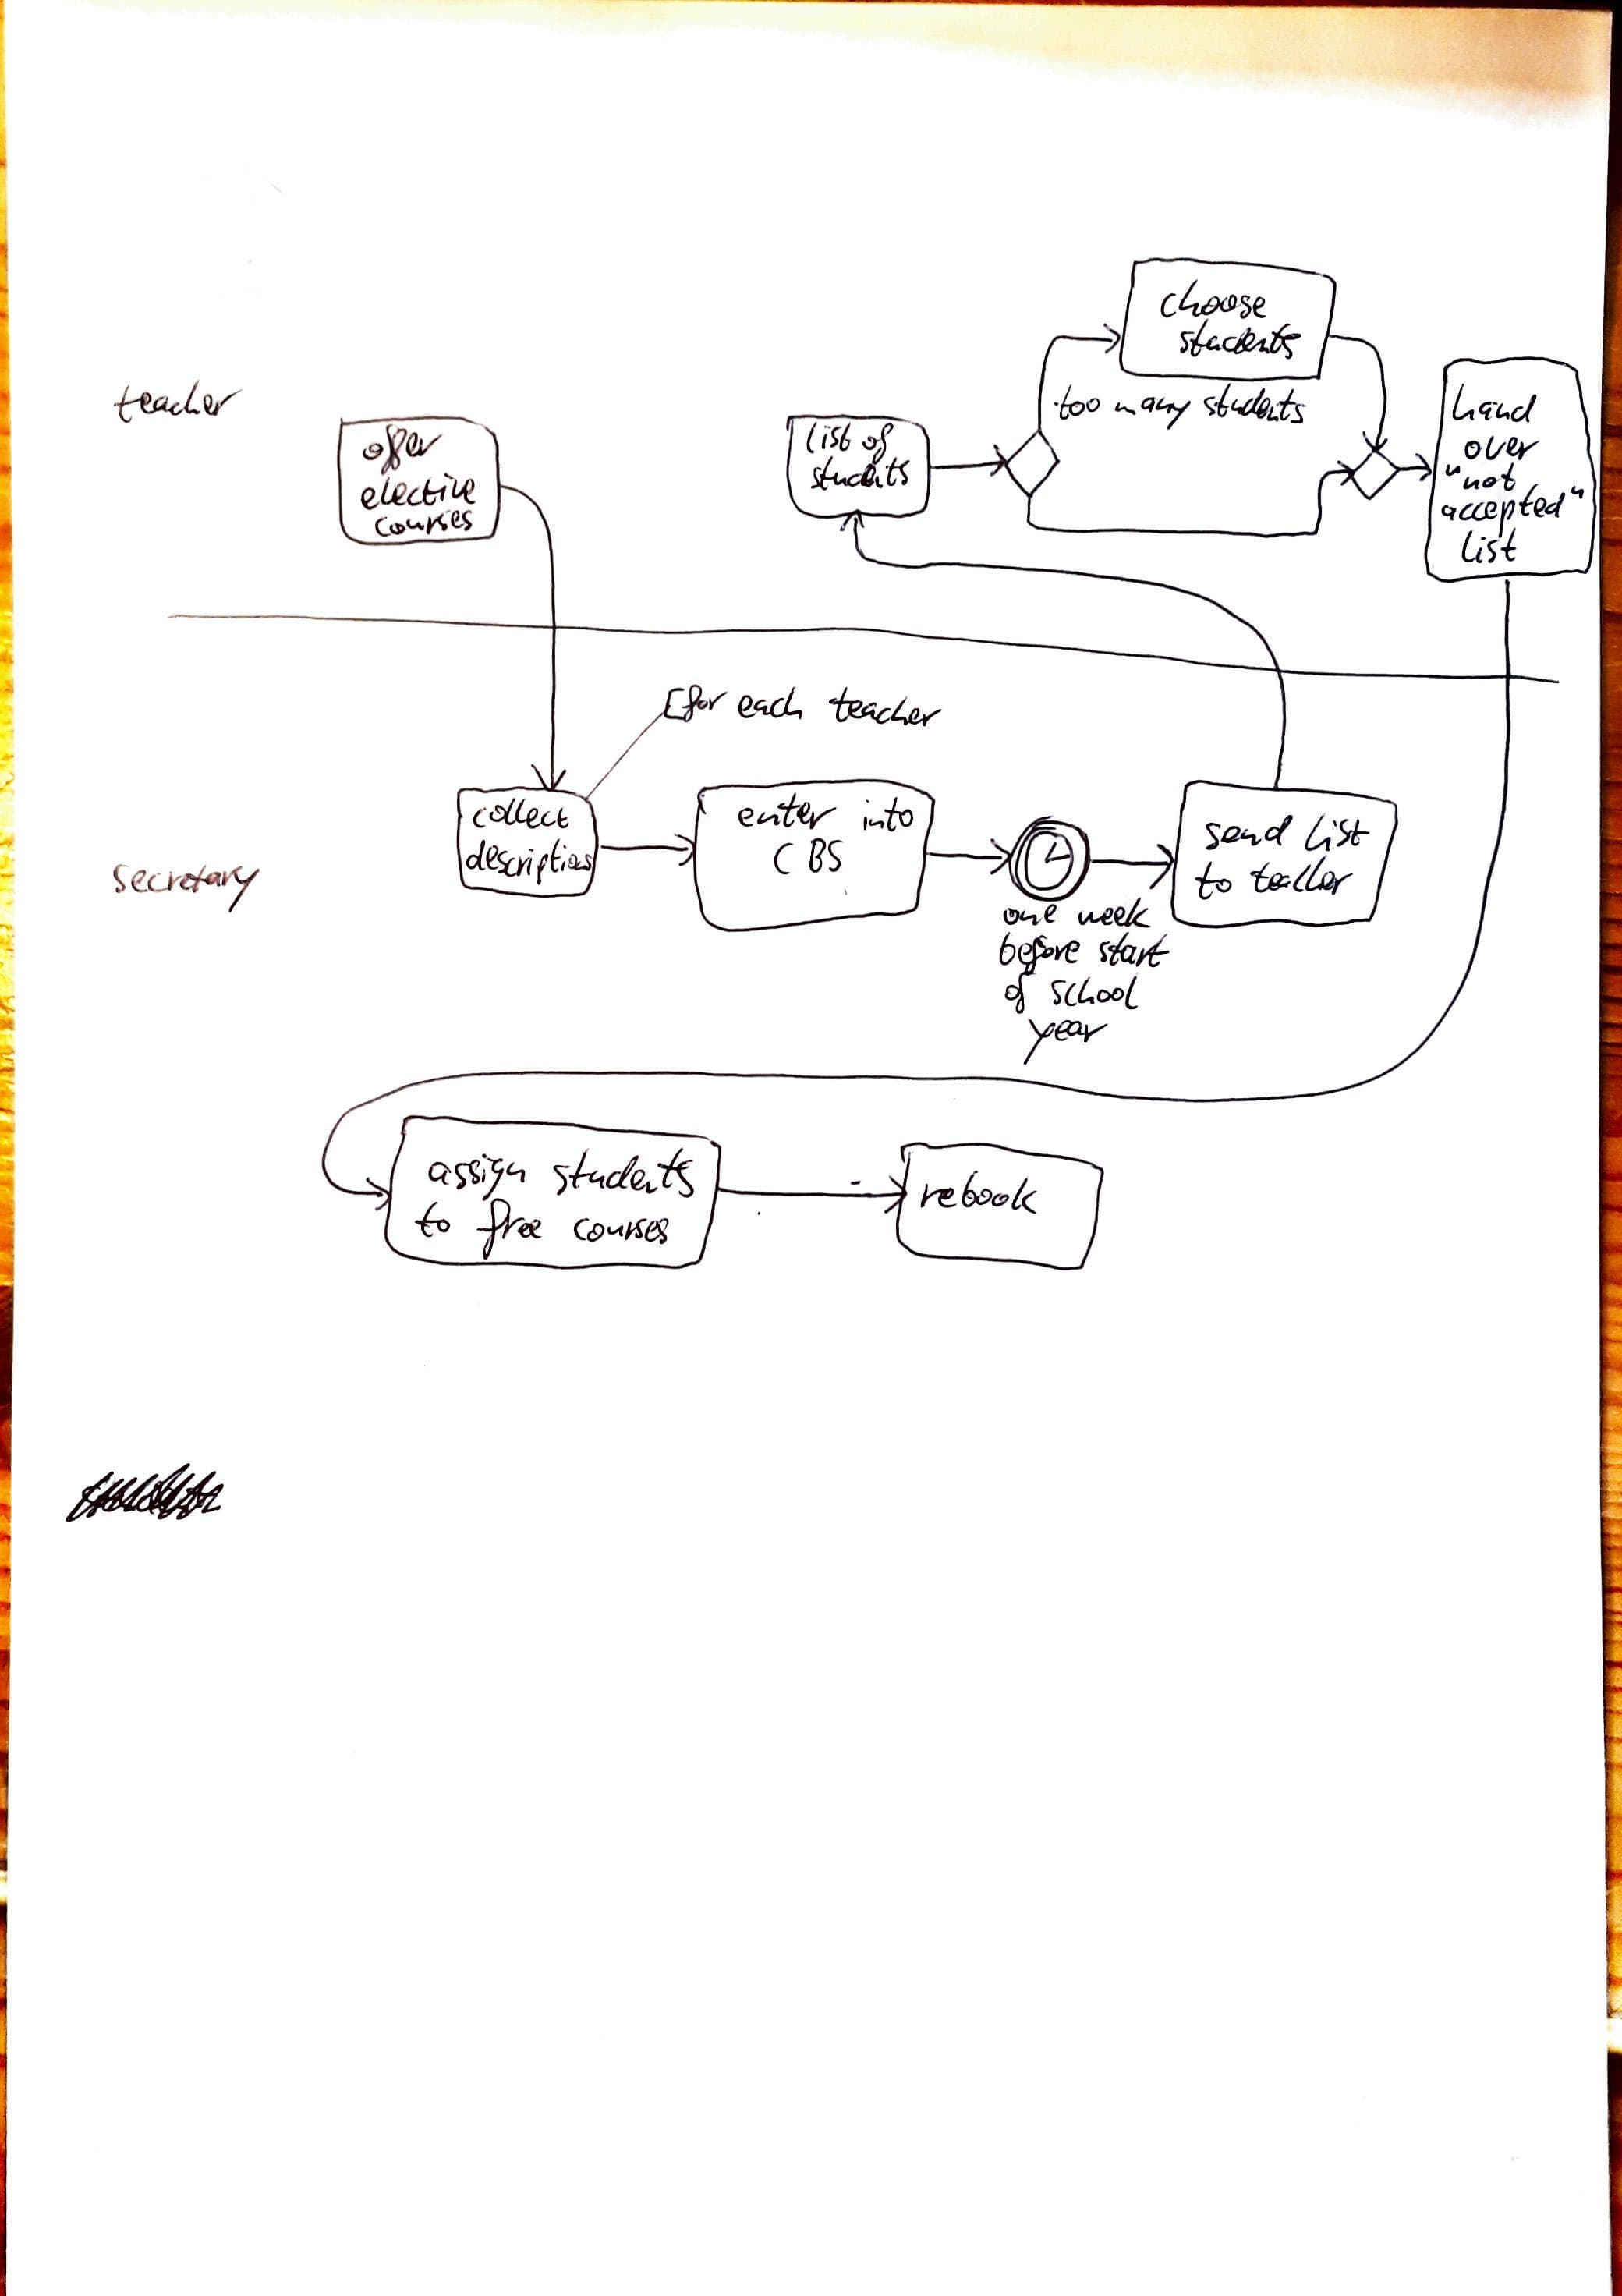CBS: (766, 835, 846, 880)
accepted: (1440, 483, 1592, 526)
assign: (421, 1153, 526, 1196)
before: (993, 933, 1081, 972)
choose: (1156, 275, 1270, 324)
collect: (474, 798, 574, 835)
courses: (568, 1203, 672, 1253), (372, 508, 478, 540)
descriptions: (463, 838, 596, 881)
each: (727, 684, 806, 729)
elective: (356, 472, 480, 516)
enter: (735, 793, 841, 834)
for: (682, 682, 731, 727)
free: (469, 1199, 548, 1260)
hand: (1447, 382, 1543, 428)
into: (853, 796, 917, 836)
list: (1295, 814, 1369, 856), (1458, 529, 1520, 564), (805, 421, 852, 455)
many: (1103, 388, 1192, 431)
not: (1438, 459, 1516, 495)
of: (857, 420, 898, 463), (1003, 969, 1042, 1013)
offer: (356, 422, 441, 472)
one: (1004, 902, 1055, 931)
over: (1455, 432, 1536, 469)
rebook: (918, 1171, 1035, 1218)
school: (1046, 974, 1149, 1011)
secretary: (107, 856, 263, 916)
send: (1199, 814, 1295, 855)
start: (1096, 932, 1178, 971)
students: (546, 1146, 706, 1199), (1199, 381, 1318, 427), (1175, 323, 1300, 360), (809, 455, 915, 494)
teacher: (110, 378, 250, 428), (826, 684, 952, 732), (1248, 853, 1360, 902)
to: (416, 1197, 459, 1245), (1191, 863, 1231, 903)
too: (1051, 383, 1104, 427)
week: (1076, 892, 1156, 930)
year: (1019, 1014, 1113, 1066)
